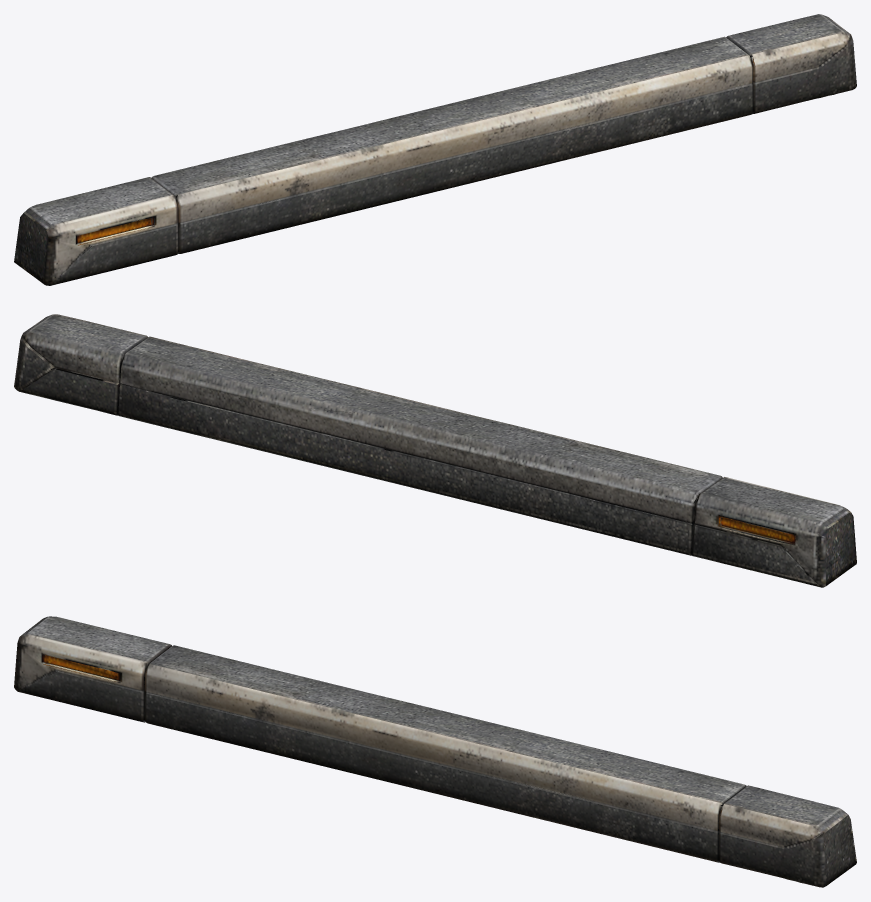
File: kairox-sidewalk-curb.glb
The picture shows the model from 3 angles, top to bottom: view 1: azimuth 30°, elevation 25°; view 2: azimuth 150°, elevation 25°; view 3: azimuth 330°, elevation 25°; orthographic projection.
Visible parts, largest first — view 1: kairox-sidewalk-curb; view 2: kairox-sidewalk-curb; view 3: kairox-sidewalk-curb.
Part boxes in pixels (bbox=[...]): kairox-sidewalk-curb: bbox=[14, 14, 856, 285]; kairox-sidewalk-curb: bbox=[14, 314, 856, 587]; kairox-sidewalk-curb: bbox=[14, 616, 856, 887].
Bounding box in the file's own units: 4 × 0.28 × 0.3.
1 material, 1 textured.
